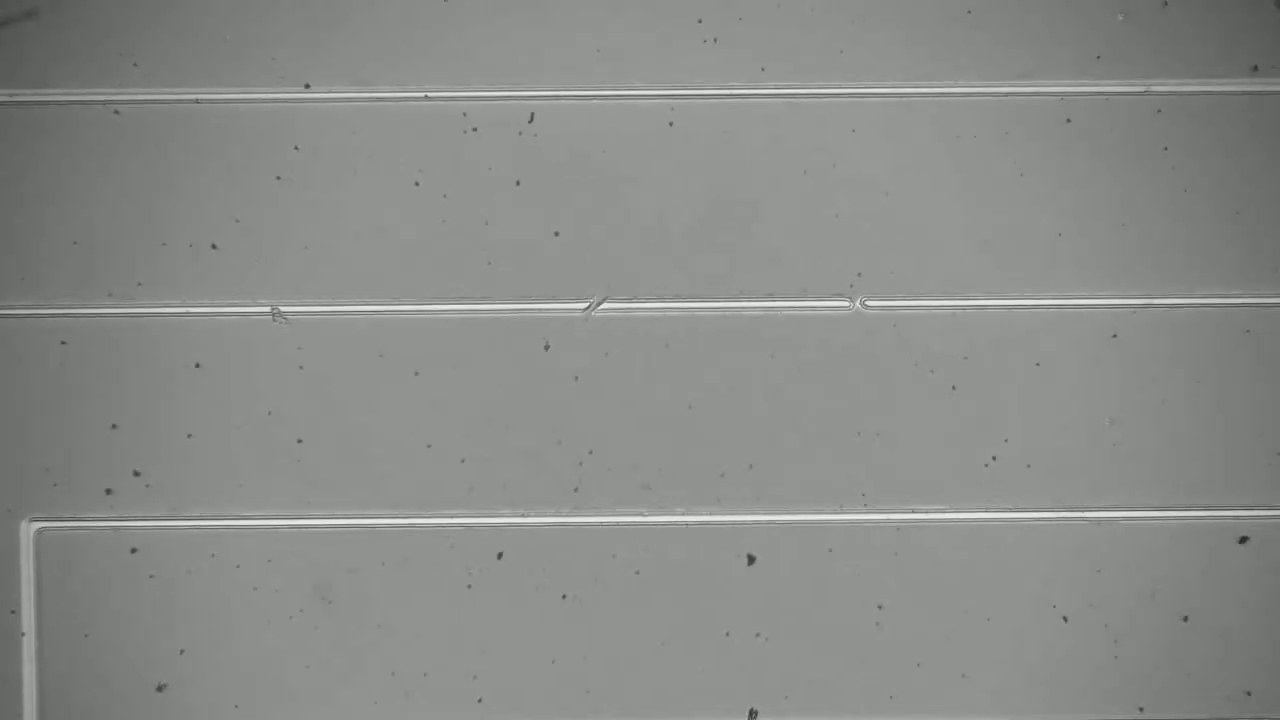open: (571, 283, 616, 325), (837, 282, 877, 320)
stains_enbedded: (260, 290, 299, 336)
